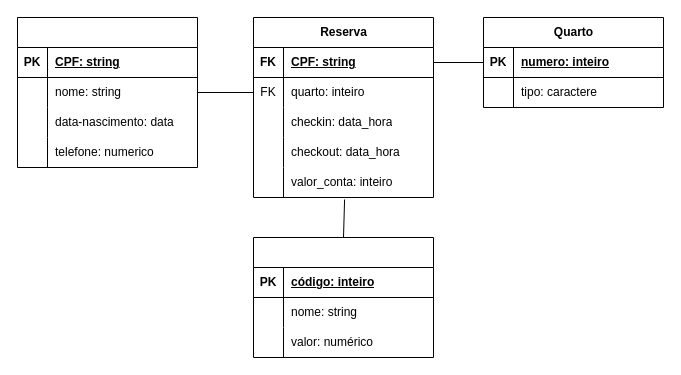
The diagram is 681 pixels wide and 375 high, and some of its shapes have lost their labels. Each missing label, with the box of its shape:
Hospede: (16, 16, 198, 168)
Serviço: (252, 236, 434, 358)
